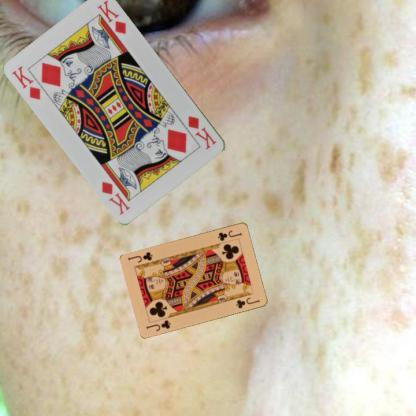Jc: (144, 317, 172, 332), (216, 228, 243, 242)
Kd: (9, 63, 43, 101), (185, 112, 218, 150)
